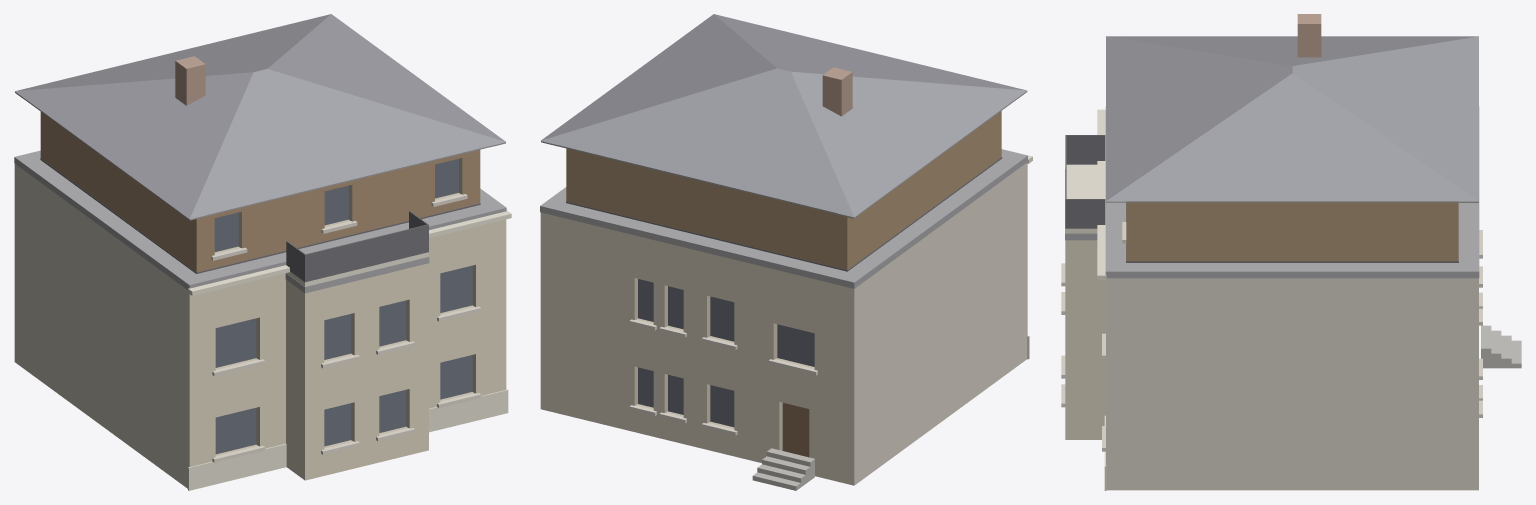
3 renders of one model, left to right at view 1: azimuth 30°, elevation 25°; view 2: azimuth 150°, elevation 25°; view 3: azimuth 270°, elevation 25°, orthographic. The views are drawn at different scales.
Parts seen in each view (by area): view 1: CP_1918_Masonry, CP_1918_WingRoof_vol_attic, CP_1918_Vol_bay_Masonry, CP_1918_Vol_attic_Masonry, CP_1918_Roof, CP_1918_Cornice_main_plinth_0, CP_1918_Balcony_0_rail_f, CP_1918_Cornice_main_eave_0, CP_1918_Chimney_0, CP_1918_WingRoof_vol_bay, CP_1918_Roof_Flashing_attic, CP_1918_Balcony_0_slab (+2 smaller); view 2: CP_1918_Masonry, CP_1918_WingRoof_vol_attic, CP_1918_Vol_attic_Masonry, CP_1918_Roof, CP_1918_Chimney_0, CP_1918_Roof_Flashing_attic, CP_1918_WingRoof_vol_attic_EaveClosure_2; view 3: CP_1918_Masonry, CP_1918_WingRoof_vol_attic, CP_1918_Vol_attic_Masonry, CP_1918_Roof, CP_1918_Vol_bay_Masonry, CP_1918_Balcony_0_slab, CP_1918_Balcony_0_rail_l, CP_1918_Balcony_0_rail_r, CP_1918_Cornice_main_eave_0, CP_1918_Chimney_0, CP_1918_Roof_Flashing_attic, CP_1918_WingRoof_vol_attic_EaveClosure_1.
Boxes of the visible parts, <box> form: CP_1918_Masonry: <box>14,164,506,488</box>; CP_1918_WingRoof_vol_attic: <box>15,14,505,219</box>; CP_1918_Vol_bay_Masonry: <box>286,263,428,480</box>; CP_1918_Vol_attic_Masonry: <box>40,112,480,272</box>; CP_1918_Roof: <box>14,150,506,289</box>; CP_1918_Cornice_main_plinth_0: <box>188,389,508,490</box>; CP_1918_Balcony_0_rail_f: <box>304,224,428,282</box>; CP_1918_Cornice_main_eave_0: <box>188,210,511,295</box>; CP_1918_Chimney_0: <box>175,56,205,105</box>; CP_1918_WingRoof_vol_bay: <box>285,257,429,293</box>; CP_1918_Roof_Flashing_attic: <box>40,158,480,273</box>; CP_1918_Balcony_0_slab: <box>286,252,428,286</box>; CP_1918_Masonry: <box>540,163,1027,485</box>; CP_1918_WingRoof_vol_attic: <box>541,14,1027,217</box>; CP_1918_Vol_attic_Masonry: <box>566,111,1001,269</box>; CP_1918_Roof: <box>540,149,1027,288</box>; CP_1918_Chimney_0: <box>822,67,852,116</box>; CP_1918_Roof_Flashing_attic: <box>566,157,1002,271</box>; CP_1918_WingRoof_vol_attic_EaveClosure_2: <box>557,145,863,218</box>; CP_1918_Masonry: <box>1106,278,1478,490</box>; CP_1918_WingRoof_vol_attic: <box>1106,36,1478,201</box>; CP_1918_Vol_attic_Masonry: <box>1126,202,1458,261</box>; CP_1918_Roof: <box>1105,106,1479,278</box>; CP_1918_Vol_bay_Masonry: <box>1065,240,1105,439</box>; CP_1918_Balcony_0_slab: <box>1065,164,1097,233</box>; CP_1918_Balcony_0_rail_l: <box>1066,135,1105,164</box>; CP_1918_Balcony_0_rail_r: <box>1066,199,1105,228</box>; CP_1918_Cornice_main_eave_0: <box>1097,109,1106,280</box>; CP_1918_Chimney_0: <box>1297,14,1321,57</box>; CP_1918_Roof_Flashing_attic: <box>1126,203,1458,262</box>; CP_1918_WingRoof_vol_attic_EaveClosure_1: <box>1106,201,1478,202</box>.
Bounding box in the file's own units: 11.6 × 11.6 × 13.58.
